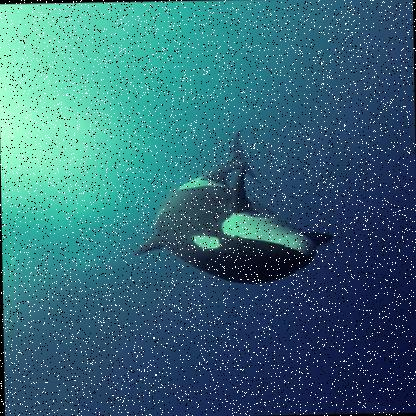killer_whale: (118, 110, 356, 292)
